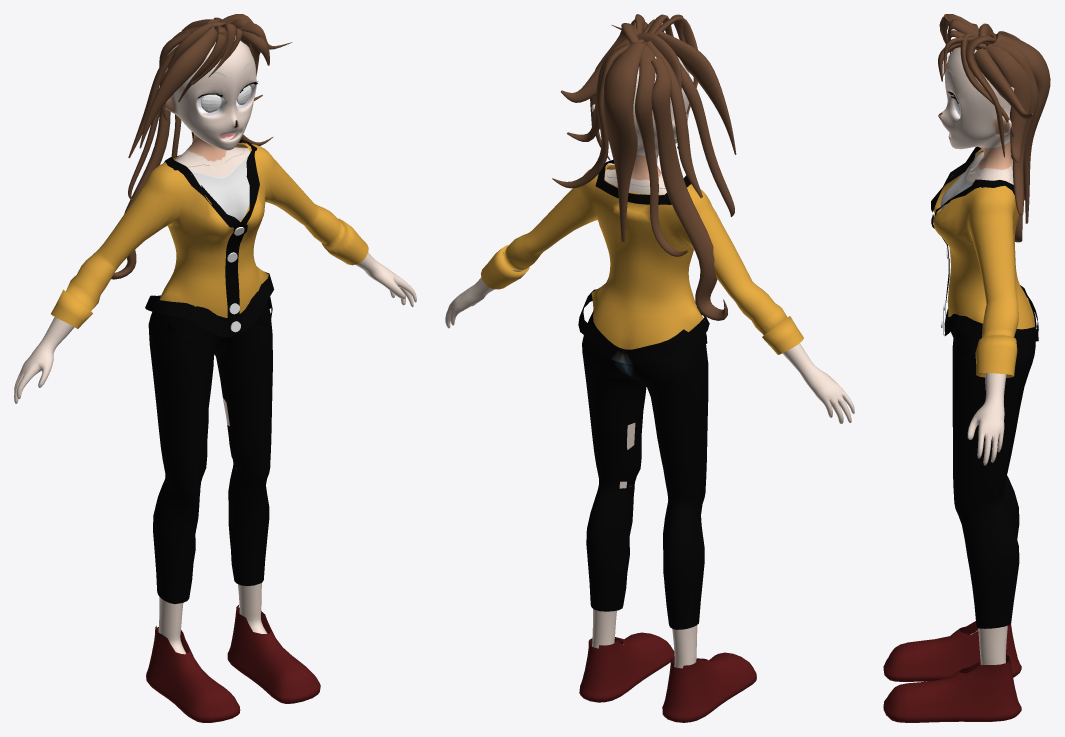
The model's file is Lina Byte.fbx.
3 renders of one model, left to right at view 1: azimuth 30°, elevation 25°; view 2: azimuth 150°, elevation 25°; view 3: azimuth 270°, elevation 25°, orthographic.
Parts seen in each view (by area): view 1: jeans, lowerShirt, body, shoes, frontHair, collar, upperShirt, eyes; view 2: jeans, frontHair, lowerShirt, shoes, body, collar; view 3: jeans, lowerShirt, shoes, frontHair, body, collar, upperShirt.
Part boxes in pixels (bbox=[...]): jeans: bbox=[148, 296, 272, 603]; lowerShirt: bbox=[51, 142, 368, 328]; body: bbox=[14, 36, 416, 654]; shoes: bbox=[146, 605, 320, 722]; frontHair: bbox=[111, 14, 292, 279]; collar: bbox=[145, 140, 273, 337]; upperShirt: bbox=[190, 153, 249, 221]; eyes: bbox=[198, 62, 258, 112]; jeans: bbox=[582, 309, 708, 629]; frontHair: bbox=[552, 14, 736, 320]; lowerShirt: bbox=[481, 164, 803, 354]; shoes: bbox=[579, 632, 756, 722]; body: bbox=[445, 56, 854, 668]; collar: bbox=[578, 159, 709, 364]; jeans: bbox=[947, 303, 1036, 628]; lowerShirt: bbox=[933, 148, 1034, 377]; shoes: bbox=[883, 621, 1021, 722]; frontHair: bbox=[938, 14, 1050, 242]; body: bbox=[938, 47, 1014, 664]; collar: bbox=[931, 146, 1038, 344]; upperShirt: bbox=[940, 151, 979, 209].
Size of the model in its own units: 113 by 179 by 40.19.
9 materials, 2 textured.
